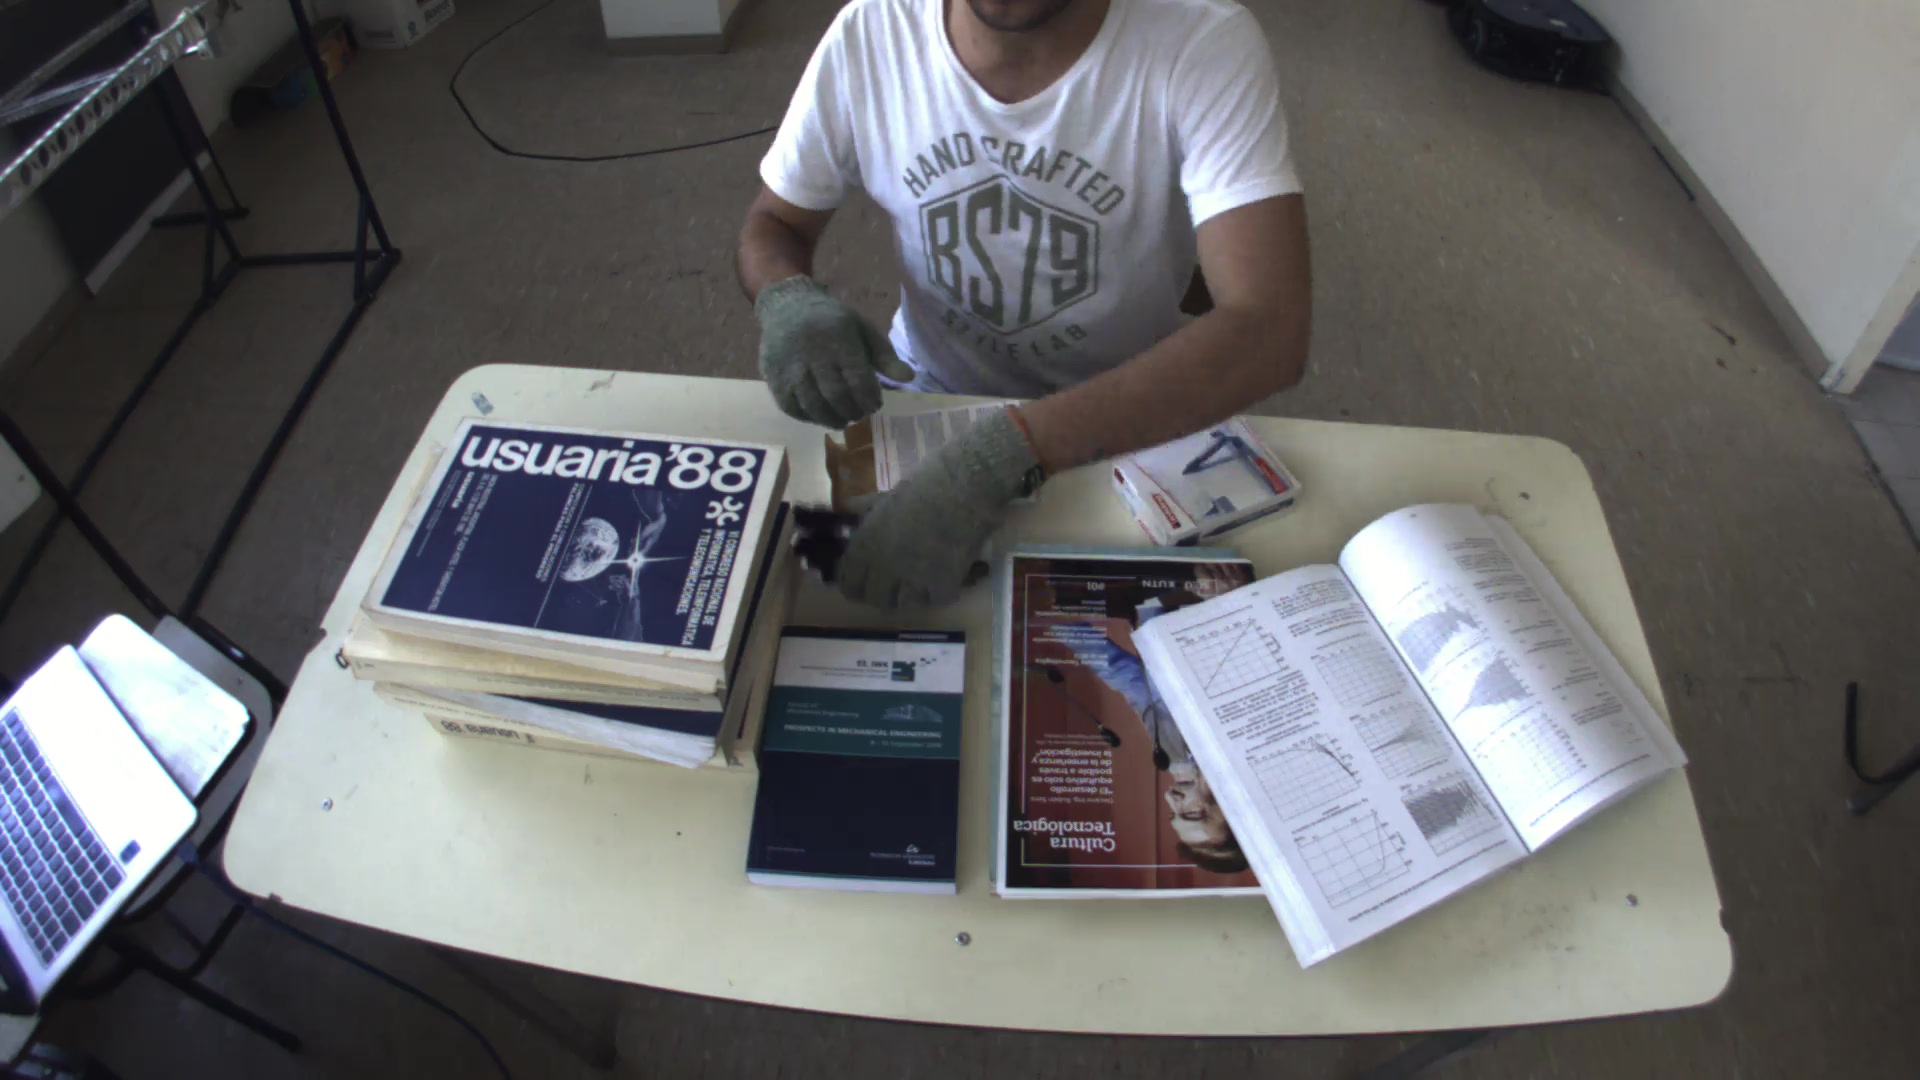hand: (831, 430, 1044, 609), (735, 270, 895, 429)
